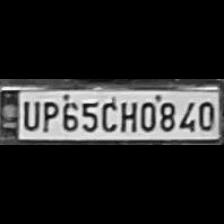0: (195, 99, 215, 131), (138, 97, 156, 132)
4: (176, 97, 196, 132)
5: (78, 97, 98, 132)
6: (58, 98, 78, 132)
8: (156, 98, 176, 132)
C: (98, 97, 116, 132)
H: (117, 97, 137, 132)
P: (38, 98, 57, 132)
U: (19, 97, 39, 130)
